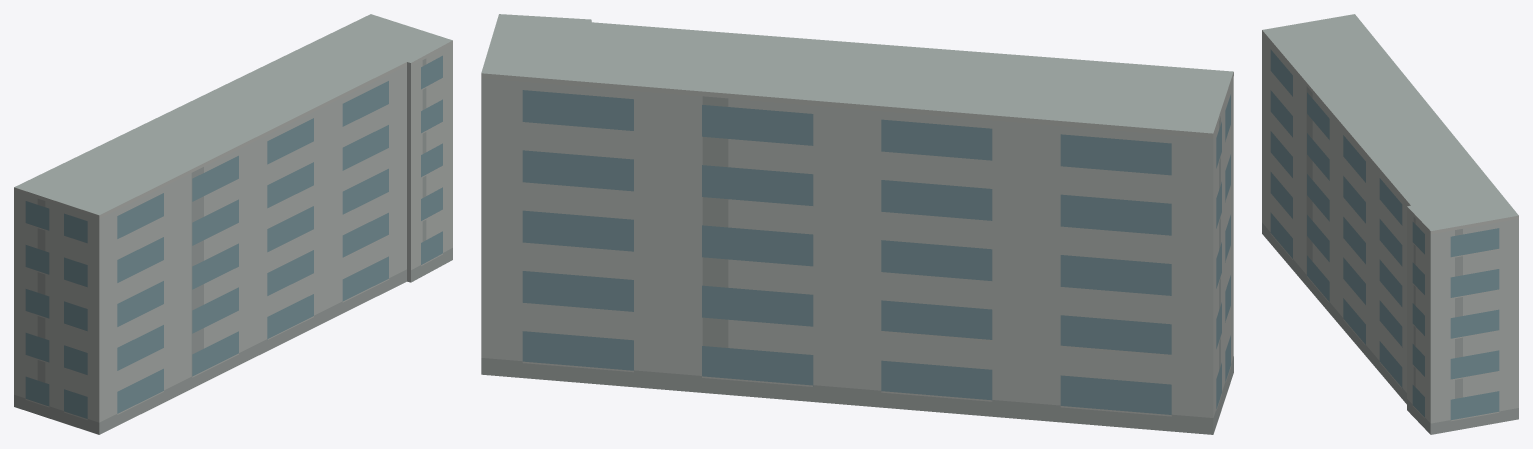
The model's file is survey-upis-32858640.glb.
The picture shows the model from 3 angles, left to right: view 1: azimuth 30°, elevation 25°; view 2: azimuth 150°, elevation 25°; view 3: azimuth 270°, elevation 25°; orthographic projection. The views are drawn at different scales.
Visible parts, largest first — view 1: survey-upis-32858640.tmp; view 2: survey-upis-32858640.tmp; view 3: survey-upis-32858640.tmp.
Part boxes in pixels (x1,y1,x2,y2): survey-upis-32858640.tmp: [14, 14, 452, 434]; survey-upis-32858640.tmp: [481, 14, 1233, 434]; survey-upis-32858640.tmp: [1262, 14, 1518, 434].
Size of the model in its own units: 34.87 by 15.25 by 17.43.
